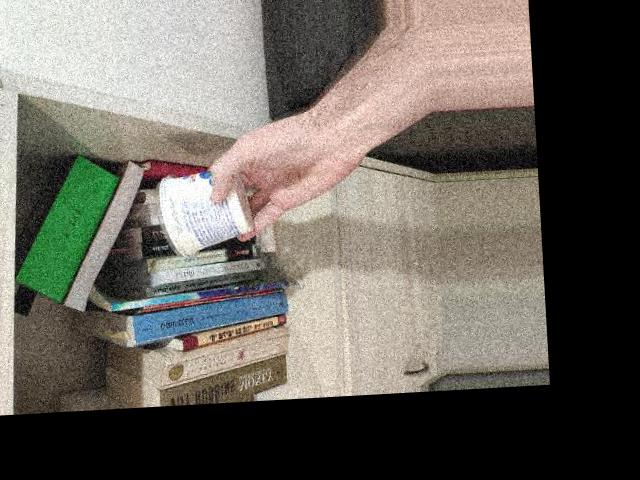cotage: (149, 157, 275, 262)
